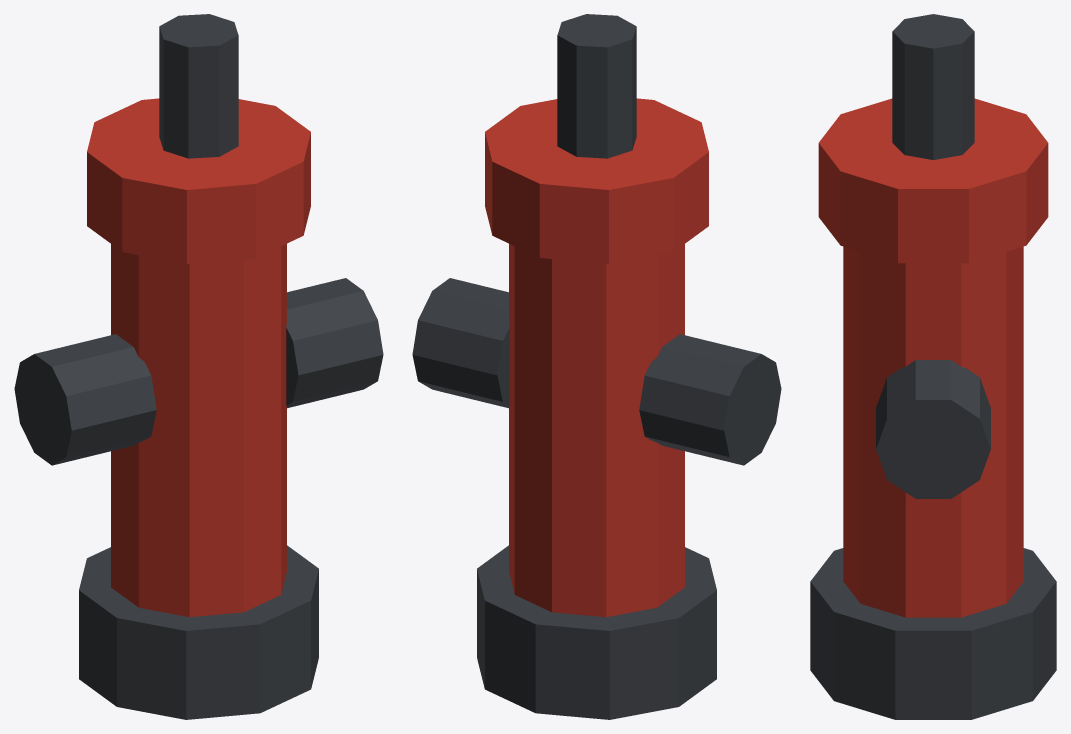
The model's file is PRP_Hydrant.fbx.
The picture shows the model from 3 angles, left to right: view 1: azimuth 30°, elevation 25°; view 2: azimuth 150°, elevation 25°; view 3: azimuth 270°, elevation 25°; orthographic projection.
Parts seen in each view (by area): view 1: PRP_Hydrant__BODY; view 2: PRP_Hydrant__BODY; view 3: PRP_Hydrant__BODY.
Part boxes in pixels (x1,y1,x2,y2): PRP_Hydrant__BODY: [14, 14, 383, 719]; PRP_Hydrant__BODY: [412, 14, 781, 719]; PRP_Hydrant__BODY: [810, 14, 1056, 719].
Bounding box in the file's own units: 0.44 × 0.86 × 0.3.
